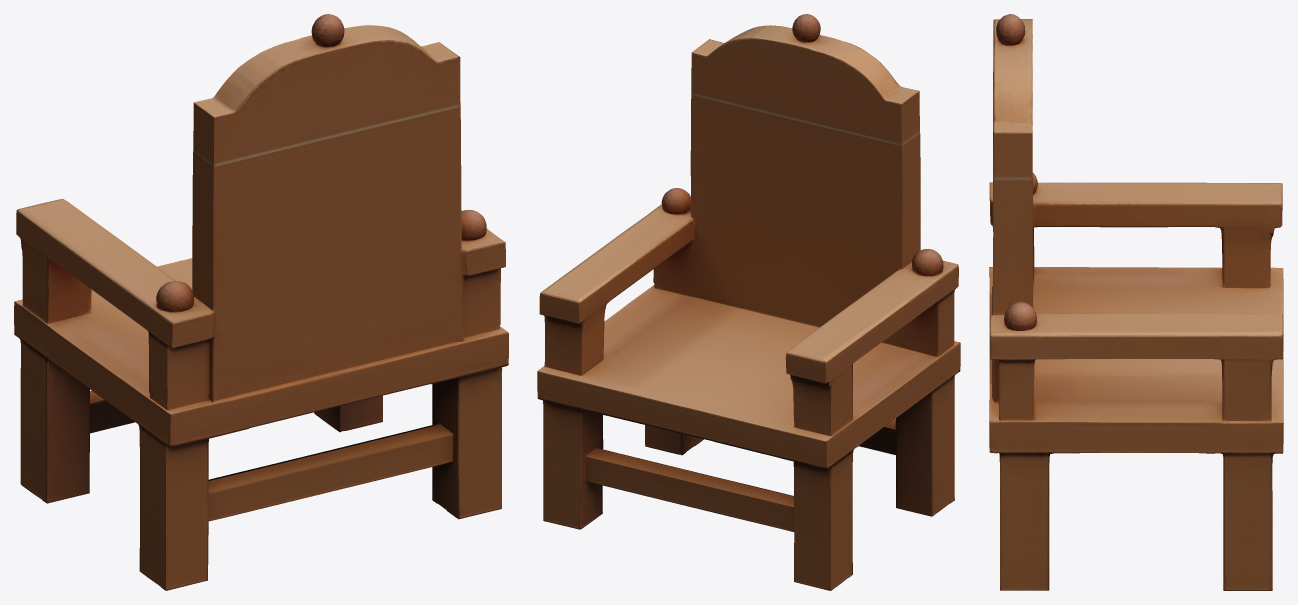
File: sofa_5.glb
The picture shows the model from 3 angles, left to right: view 1: azimuth 30°, elevation 25°; view 2: azimuth 150°, elevation 25°; view 3: azimuth 270°, elevation 25°; orthographic projection. The views are drawn at different scales.
Parts seen in each view (by area): view 1: world; view 2: world; view 3: world.
Boxes of the visible parts, x1,y1,x2,y2 form: world: (14,14,508,590); world: (537,14,960,590); world: (989,14,1283,590).
Size of the model in its own units: 0.495 by 0.7415 by 0.3973.
Materials: 1 (1 with a texture image).
